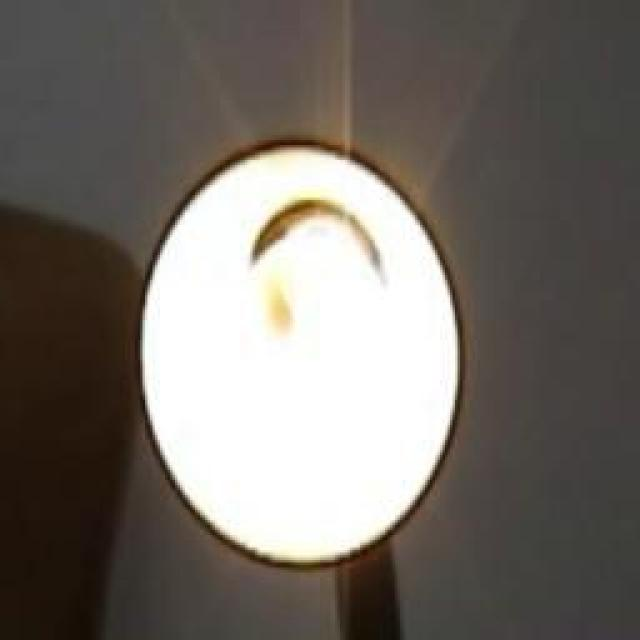other: (133, 172, 464, 556)
